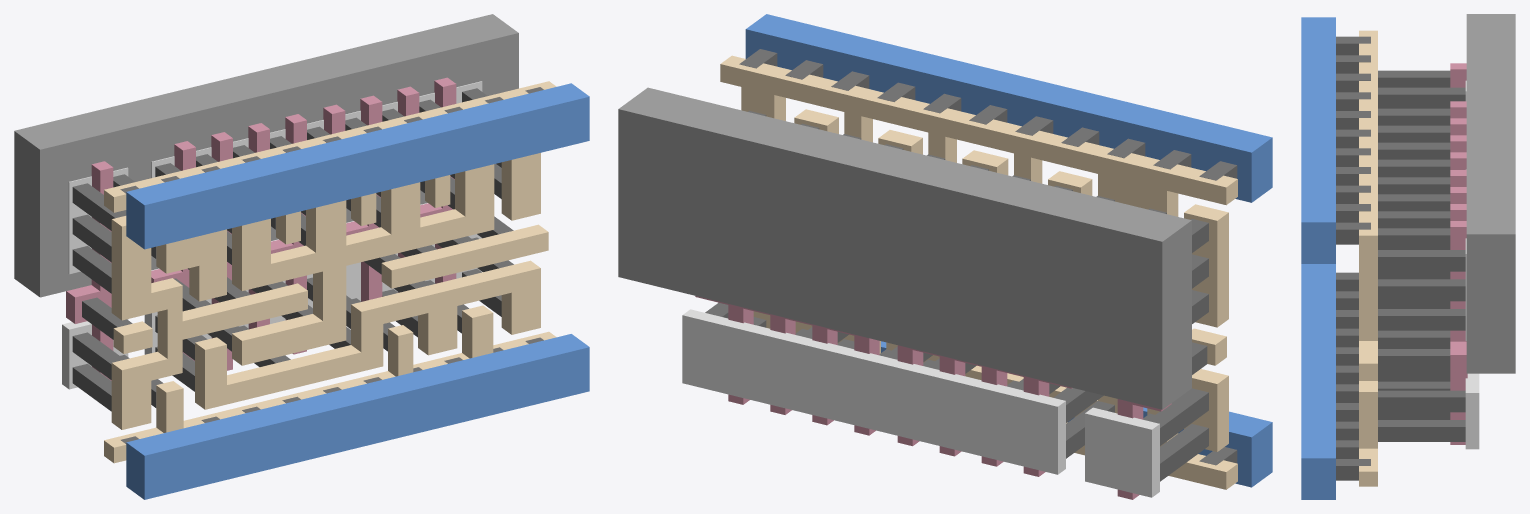
Rendered from sky130_fd_sc_hd__nand2b_4.gds.gltf.
3 views of the same model, side by side, from view 1: azimuth 30°, elevation 25°; view 2: azimuth 150°, elevation 25°; view 3: azimuth 270°, elevation 25° (orthographic). The views are drawn at different scales.
Parts seen in each view (by area): view 1: sky130_fd_sc_hd__nand2b_4_li1, sky130_fd_sc_hd__nand2b_4_met1, sky130_fd_sc_hd__nand2b_4_nwell, sky130_fd_sc_hd__nand2b_4_licon, sky130_fd_sc_hd__nand2b_4_poly, sky130_fd_sc_hd__nand2b_4_diff, sky130_fd_sc_hd__nand2b_4_mcon; view 2: sky130_fd_sc_hd__nand2b_4_nwell, sky130_fd_sc_hd__nand2b_4_diff, sky130_fd_sc_hd__nand2b_4_li1, sky130_fd_sc_hd__nand2b_4_met1, sky130_fd_sc_hd__nand2b_4_licon, sky130_fd_sc_hd__nand2b_4_mcon, sky130_fd_sc_hd__nand2b_4_poly; view 3: sky130_fd_sc_hd__nand2b_4_licon, sky130_fd_sc_hd__nand2b_4_nwell, sky130_fd_sc_hd__nand2b_4_met1, sky130_fd_sc_hd__nand2b_4_mcon, sky130_fd_sc_hd__nand2b_4_li1, sky130_fd_sc_hd__nand2b_4_poly, sky130_fd_sc_hd__nand2b_4_diff.
Boxes of the visible parts, x1,y1,x2,y2 form: sky130_fd_sc_hd__nand2b_4_li1: (104, 81, 556, 463); sky130_fd_sc_hd__nand2b_4_met1: (126, 83, 589, 499); sky130_fd_sc_hd__nand2b_4_nwell: (14, 14, 518, 297); sky130_fd_sc_hd__nand2b_4_licon: (72, 88, 513, 411); sky130_fd_sc_hd__nand2b_4_poly: (66, 77, 456, 380); sky130_fd_sc_hd__nand2b_4_diff: (62, 81, 482, 389); sky130_fd_sc_hd__nand2b_4_mcon: (120, 87, 543, 443); sky130_fd_sc_hd__nand2b_4_nwell: (618, 87, 1191, 409); sky130_fd_sc_hd__nand2b_4_diff: (682, 309, 1159, 497); sky130_fd_sc_hd__nand2b_4_li1: (720, 55, 1237, 489); sky130_fd_sc_hd__nand2b_4_met1: (745, 14, 1272, 487); sky130_fd_sc_hd__nand2b_4_licon: (705, 110, 1208, 481); sky130_fd_sc_hd__nand2b_4_mcon: (739, 49, 1237, 465); sky130_fd_sc_hd__nand2b_4_poly: (695, 296, 1171, 499); sky130_fd_sc_hd__nand2b_4_licon: (1378, 70, 1465, 441); sky130_fd_sc_hd__nand2b_4_nwell: (1466, 14, 1515, 373); sky130_fd_sc_hd__nand2b_4_met1: (1301, 17, 1335, 499); sky130_fd_sc_hd__nand2b_4_mcon: (1336, 36, 1370, 480); sky130_fd_sc_hd__nand2b_4_li1: (1359, 30, 1377, 486); sky130_fd_sc_hd__nand2b_4_poly: (1450, 63, 1467, 444); sky130_fd_sc_hd__nand2b_4_diff: (1465, 80, 1479, 449).
Bounding box in the file's own units: 5.44 × 3.2 × 2.24.
